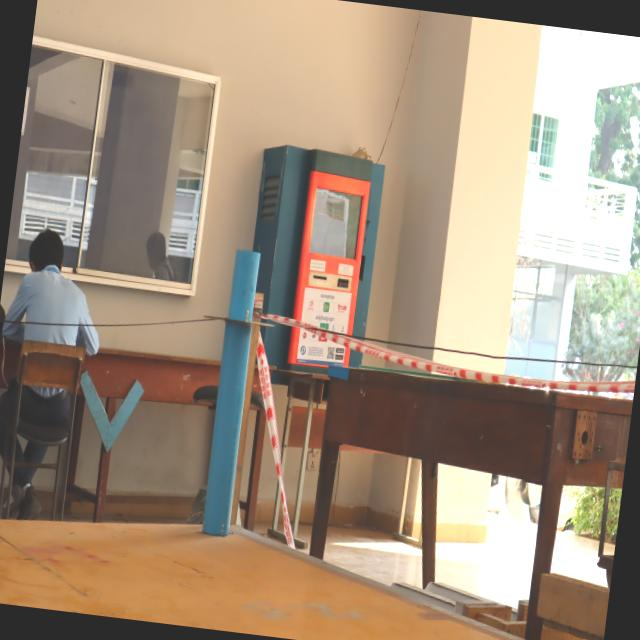pole: (192, 240, 281, 404)
